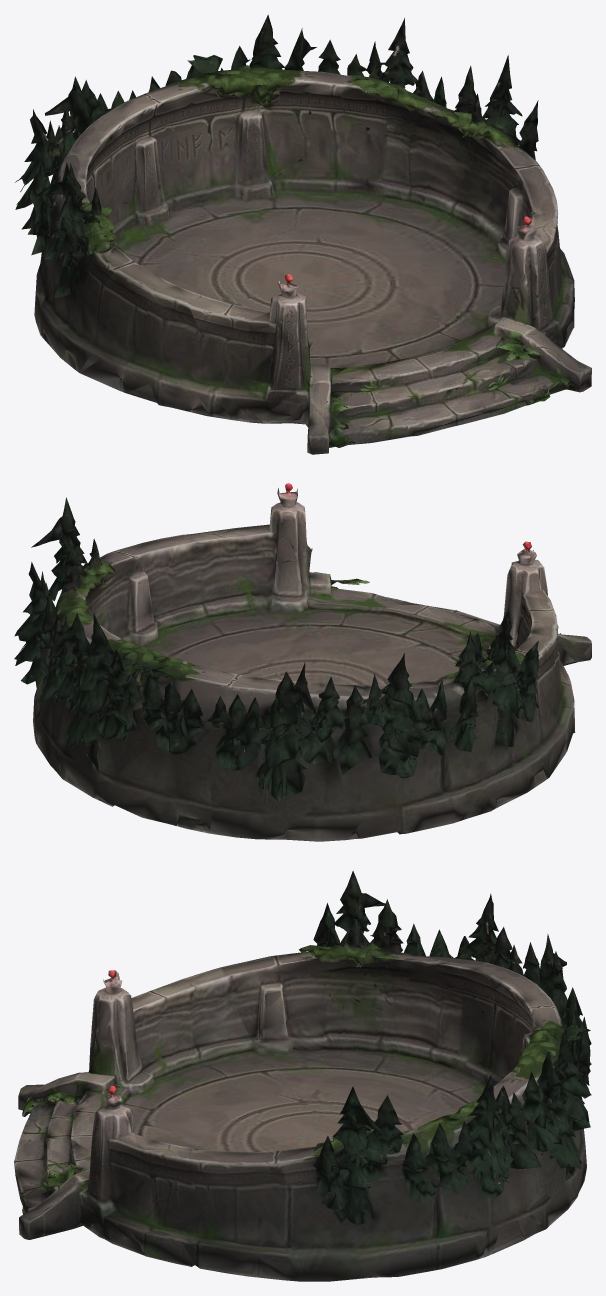
File: spawn_red.glb
3 views of the same model, one above another, from view 1: azimuth 30°, elevation 25°; view 2: azimuth 150°, elevation 25°; view 3: azimuth 270°, elevation 25° (orthographic).
Size of the model in its own units: 1.74 by 0.6837 by 1.82.
Materials: 1 (1 with a texture image).
